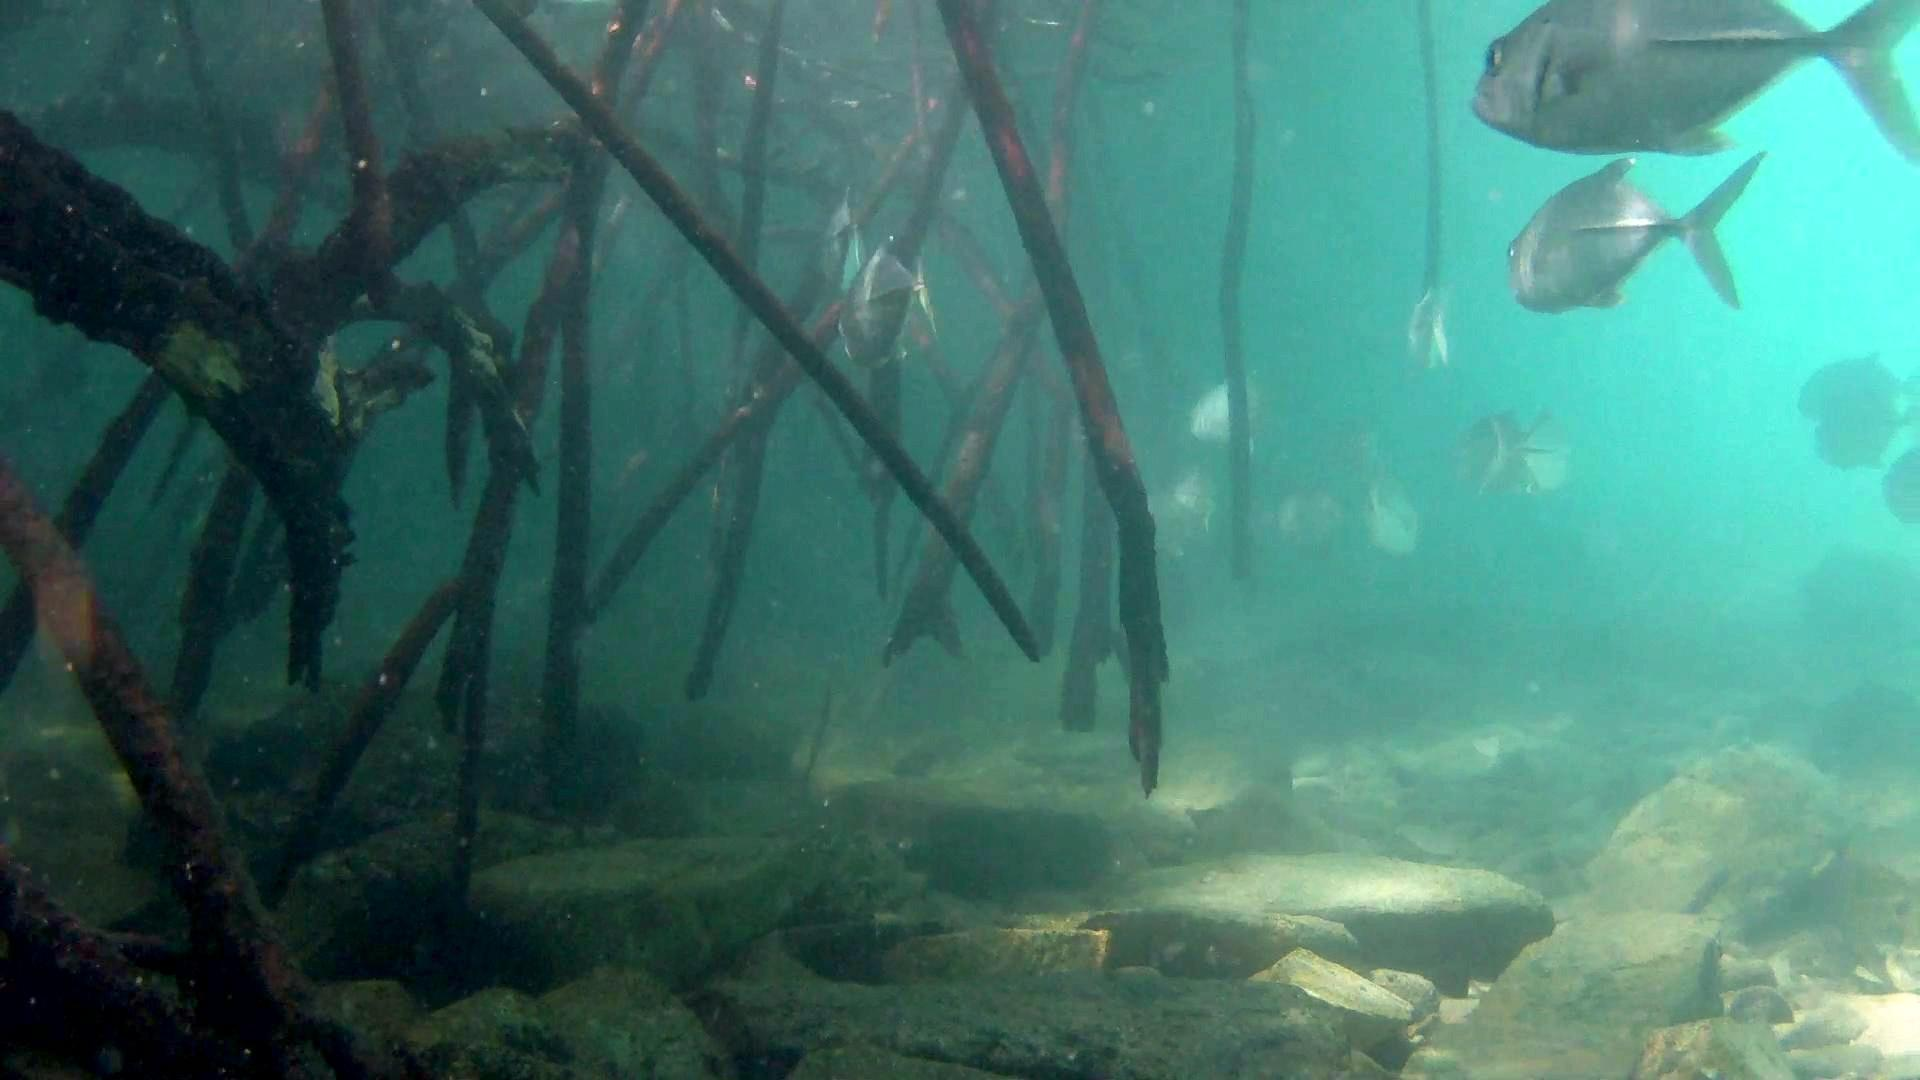caranx: (1465, 0, 1920, 167), (1499, 148, 1771, 319)
